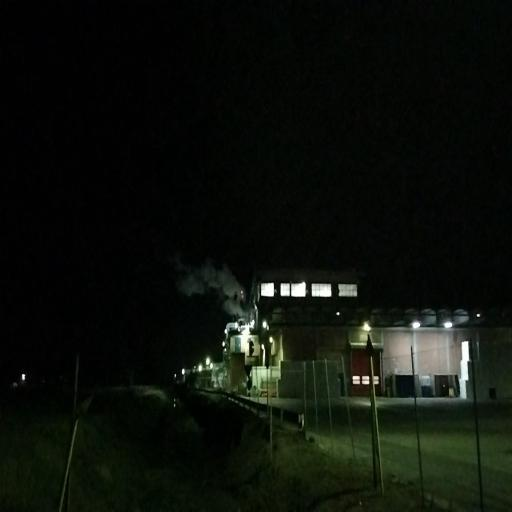leakage: (178, 246, 260, 328)
